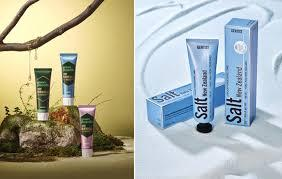toothpaste: (184, 35, 227, 135), (57, 51, 83, 107), (76, 104, 98, 159), (34, 64, 55, 121)
